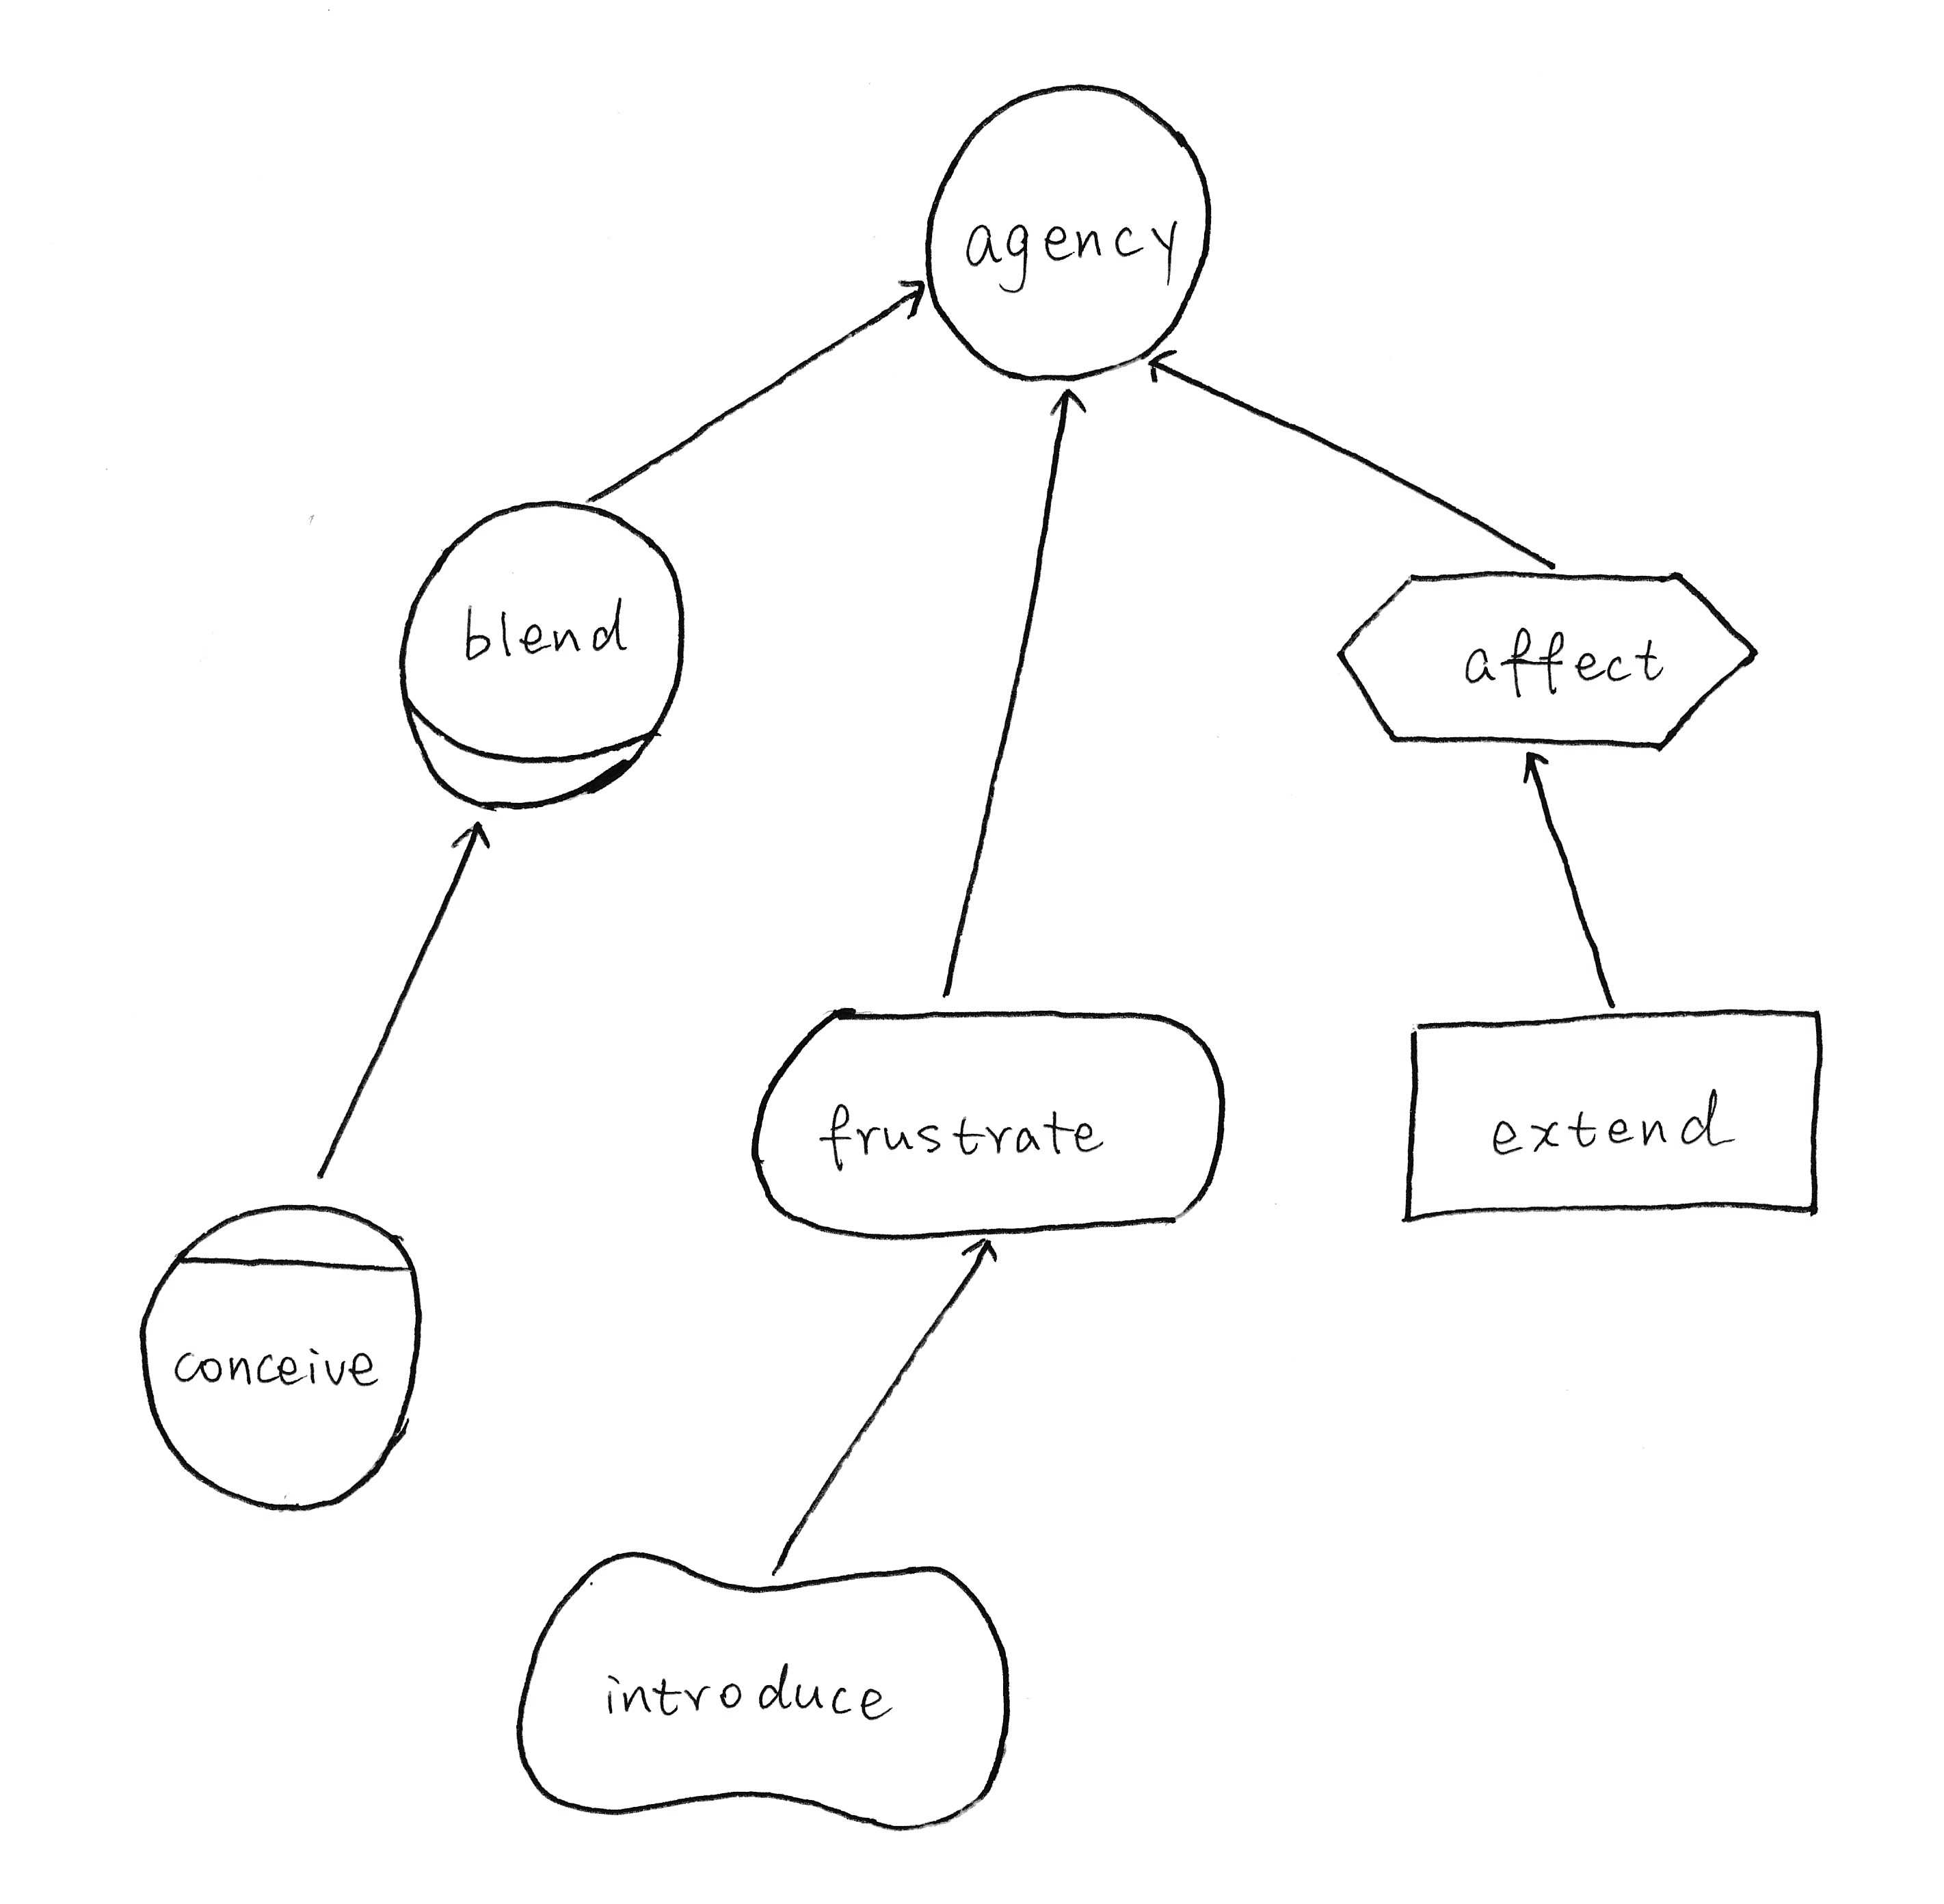actor: (908, 63, 1233, 396)
agent: (113, 1180, 443, 1527)
arrow: (933, 1207, 1011, 1295), (886, 251, 950, 338), (446, 800, 507, 870), (1499, 731, 1566, 786), (1130, 331, 1186, 387), (1039, 380, 1097, 432)
goal: (722, 983, 1245, 1264)
quality: (490, 1534, 1034, 1853)
resource: (1370, 980, 1852, 1240)
role: (382, 481, 706, 833)
task: (1327, 547, 1778, 785)
